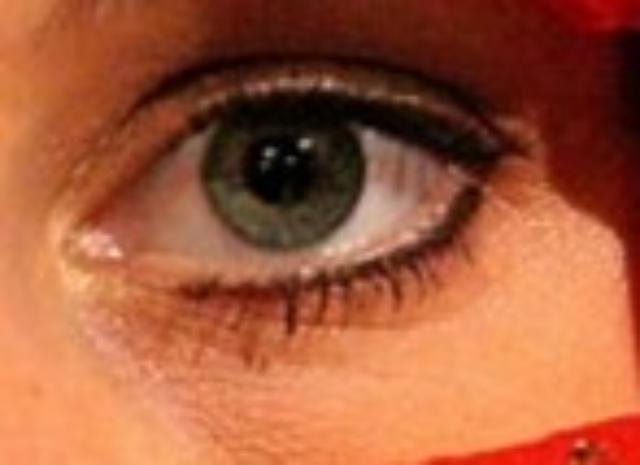eye: (202, 88, 374, 256)
